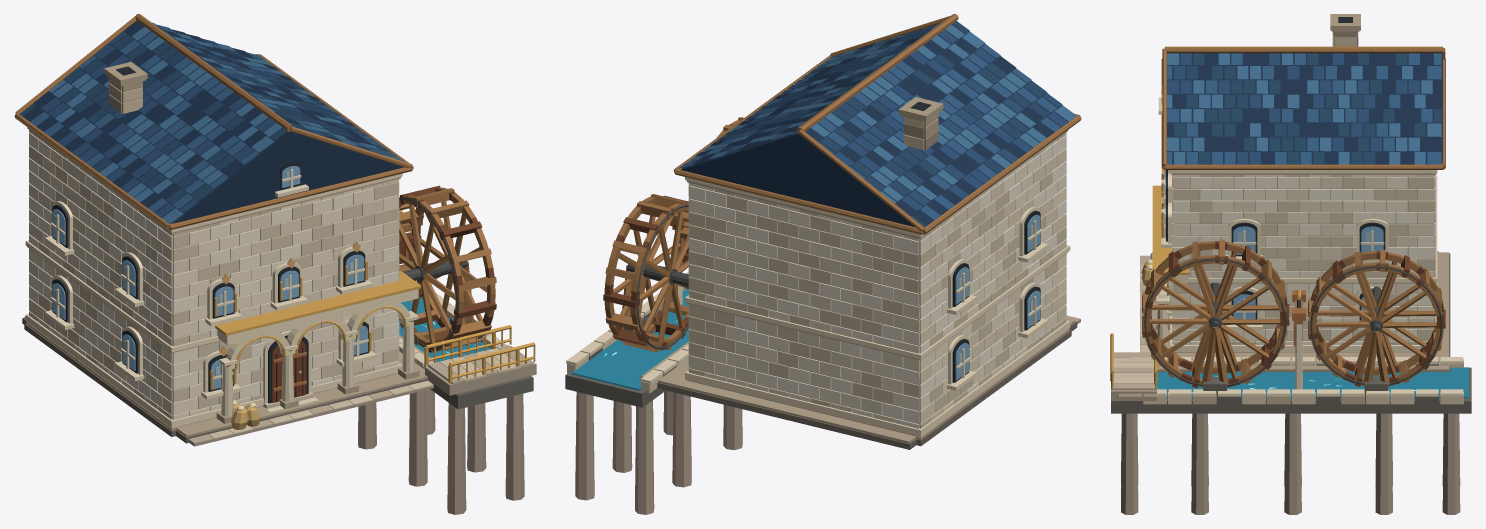
File: watermill-nivel-7.glb
3 views of the same model, side by side, from view 1: azimuth 30°, elevation 25°; view 2: azimuth 150°, elevation 25°; view 3: azimuth 270°, elevation 25° (orthographic). The views are drawn at different scales.
Visible parts, largest first — view 1: Moinho 07 #20354f, Moinho 07 #e6d7ba, Moinho 07 #e8dcc5, Moinho 07 #ded1b9, Moinho 07 #eae1ce, Moinho 07 #cec1a8, Moinho 07 #ae9d8b, Aros e pás 1 #9f7145.006, Moinho 07 #426e90, Moinho 07 #9f7145, Moinho 07 #d5a452, Moinho 07 #284763 (+17 smaller); view 2: Moinho 07 #20354f, Moinho 07 #cec1a8, Moinho 07 #ded1b9, Moinho 07 #eae1ce, Moinho 07 #e8dcc5, Moinho 07 #e6d7ba, Moinho 07 #ae9d8b, Moinho 07 #426e90, Aros e pás 2 #9f7145, Moinho 07 #9f7145, Moinho 07 #284763, Moinho 07 #355c80 (+10 smaller); view 3: Moinho 07 #20354f, Moinho 07 #e6d7ba, Aros e pás 1 #9f7145.006, Moinho 07 #ae9d8b, Aros e pás 2 #9f7145, Moinho 07 #eae1ce, Moinho 07 #cec1a8, Moinho 07 #9f7145, Moinho 07 #284763, Moinho 07 #ded1b9, Moinho 07 #e8dcc5, Moinho 07 #426e90 (+17 smaller).
Part boxes in pixels (x1,y1,x2,y2): Moinho 07 #20354f: (23,21,403,223); Moinho 07 #e6d7ba: (25,168,506,427); Moinho 07 #e8dcc5: (29,148,399,419); Moinho 07 #ded1b9: (29,149,399,414); Moinho 07 #eae1ce: (29,132,399,399); Moinho 07 #cec1a8: (29,130,399,419); Moinho 07 #ae9d8b: (188,346,536,514); Aros e pás 1 #9f7145.006: (398,187,496,350); Moinho 07 #426e90: (49,27,403,223); Moinho 07 #9f7145: (14,14,473,323); Moinho 07 #d5a452: (210,210,535,389); Moinho 07 #284763: (19,35,390,203); Moinho 07 #20354f: (681,24,1068,227); Moinho 07 #cec1a8: (688,132,1066,428); Moinho 07 #ded1b9: (688,148,1066,423); Moinho 07 #eae1ce: (688,135,1066,428); Moinho 07 #e8dcc5: (688,139,1066,412); Moinho 07 #e6d7ba: (566,177,1070,436); Moinho 07 #ae9d8b: (575,319,1080,514); Moinho 07 #426e90: (687,23,1076,203); Aros e pás 2 #9f7145: (604,194,689,352); Moinho 07 #9f7145: (621,14,1081,328); Moinho 07 #284763: (716,21,1049,227); Moinho 07 #355c80: (678,25,1060,219); Moinho 07 #20354f: (1167,53,1442,164); Moinho 07 #e6d7ba: (1119,86,1463,396); Aros e pás 1 #9f7145.006: (1142,239,1287,387); Moinho 07 #ae9d8b: (1111,256,1460,514); Aros e pás 2 #9f7145: (1308,249,1443,385); Moinho 07 #eae1ce: (1172,175,1435,344); Moinho 07 #cec1a8: (1172,175,1435,344); Moinho 07 #9f7145: (1161,46,1445,384); Moinho 07 #284763: (1174,53,1441,164); Moinho 07 #ded1b9: (1172,175,1435,344); Moinho 07 #e8dcc5: (1172,175,1435,344); Moinho 07 #426e90: (1167,53,1441,164).
Bounding box in the file's own units: 9.75 × 11.14 × 9.79.
